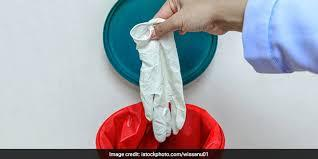Glove: (130, 19, 185, 141)
